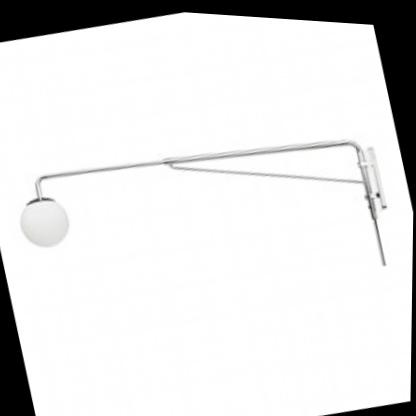Lamp: (0, 0, 416, 395)
